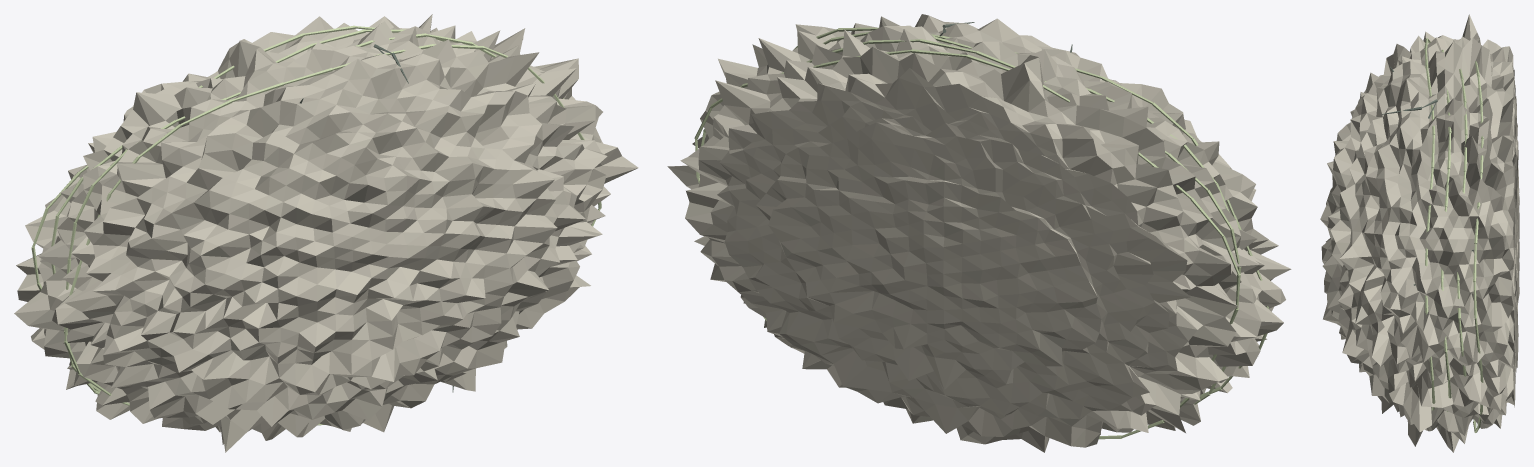
Rendered from Aquarion_Silt_Layered_Stone.glb.
The picture shows the model from 3 angles, left to right: view 1: azimuth 30°, elevation 25°; view 2: azimuth 150°, elevation 25°; view 3: azimuth 270°, elevation 25°; orthographic projection. The views are drawn at different scales.
Parts seen in each view (by area): view 1: Aquarion_Silt_Layered_Stone_mass; view 2: Aquarion_Silt_Layered_Stone_mass; view 3: Aquarion_Silt_Layered_Stone_mass.
Part boxes in pixels (bbox=[...]): Aquarion_Silt_Layered_Stone_mass: bbox=[14, 14, 638, 452]; Aquarion_Silt_Layered_Stone_mass: bbox=[667, 14, 1291, 452]; Aquarion_Silt_Layered_Stone_mass: bbox=[1320, 14, 1519, 452].
Size of the model in its own units: 3.75 by 2.31 by 1.25.
